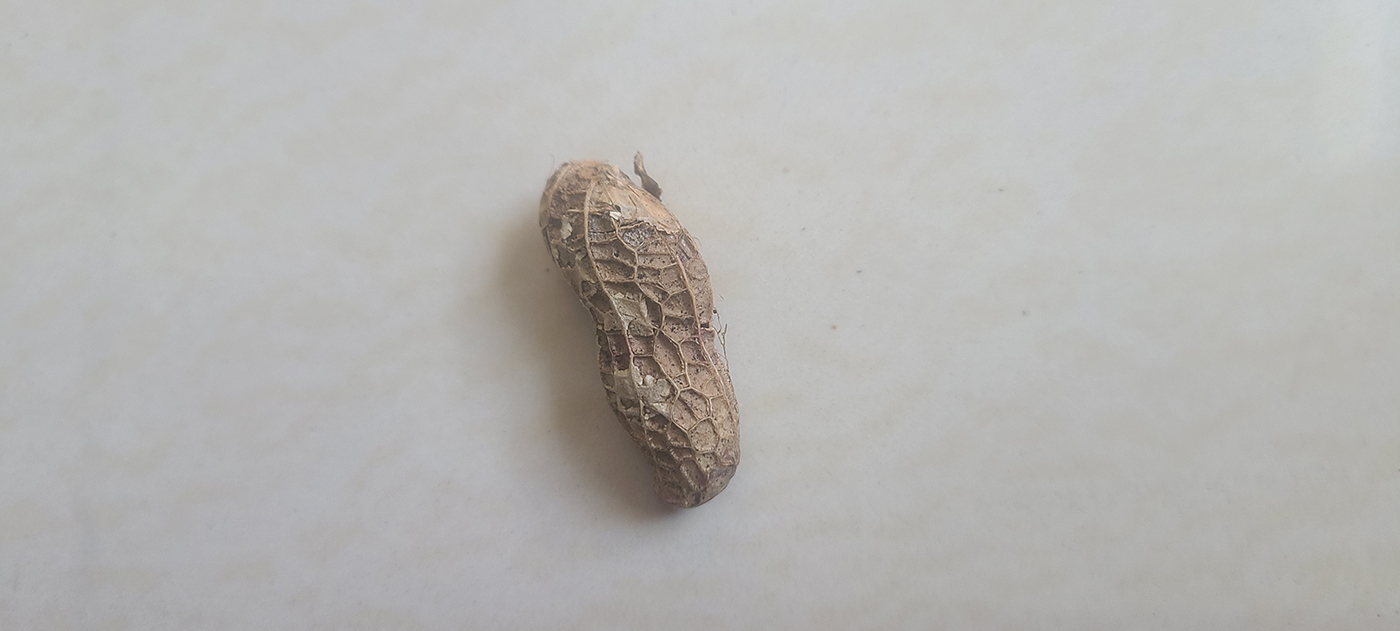l: (539, 159, 744, 508)
